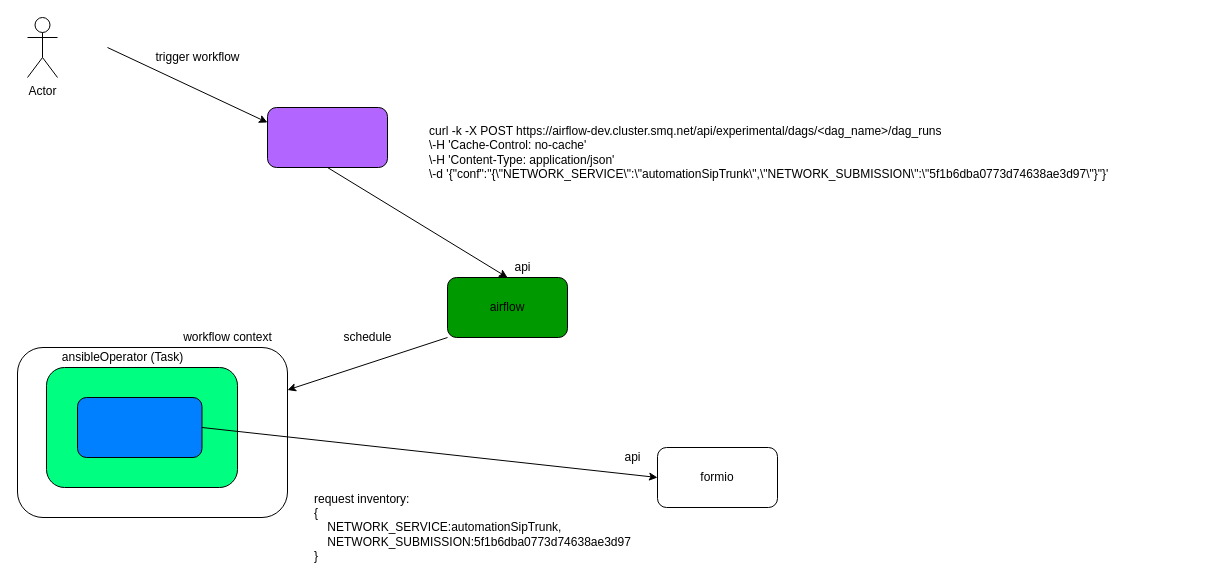
Image size: 1205x585. Some labels were removed from this diagram. The shapes that lost their labels are listed below. From the top down, each one's box as (x1, y1, x2, y2) in pixels, then its label:
(266, 106, 388, 168): frontend
(76, 396, 202, 458): dynamic-inventory
